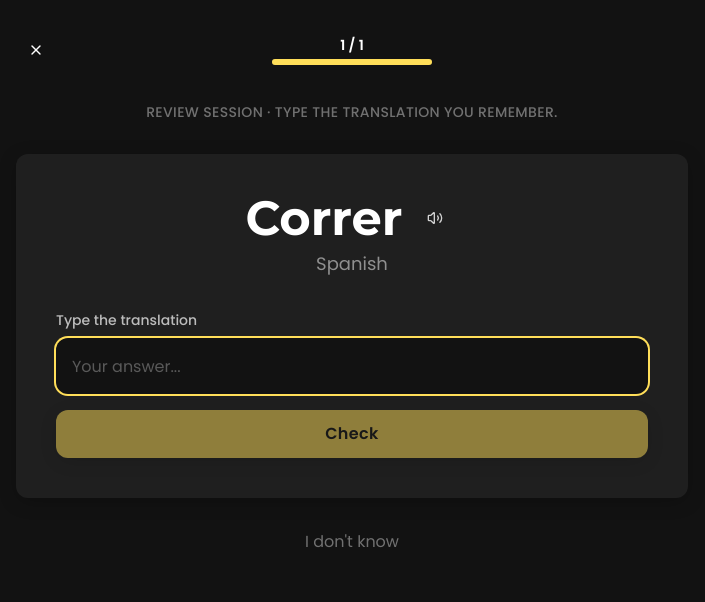
ReviewSessionPage offline (issue #218) › queues an answer that fails on a network error and still advances the session
Type "to run" into the field with placeholder "Your answer..." at x=352, y=366, box x1=56 y1=338 x2=648 y2=394
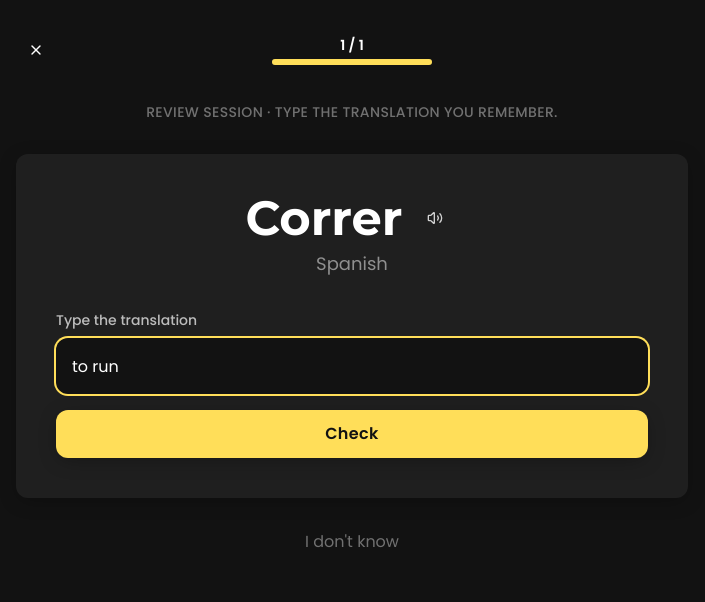
Click the button "Check" at x=352, y=434, box x1=56 y1=410 x2=648 y2=458
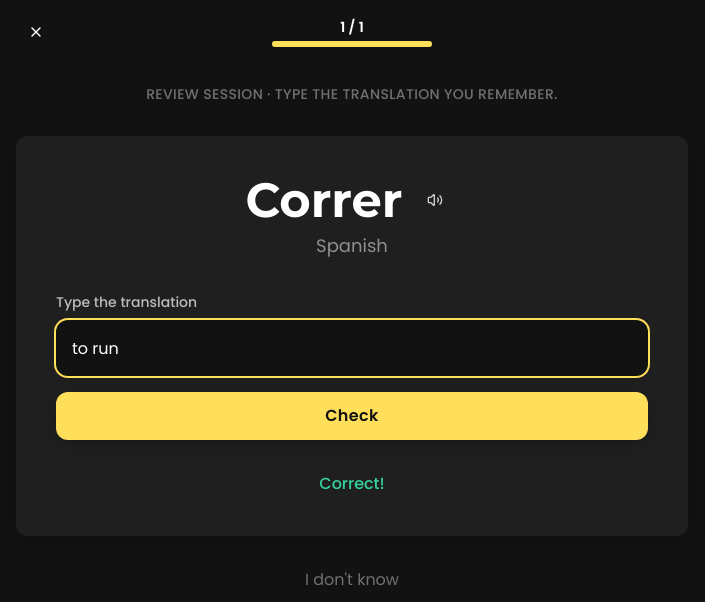
Result: the text "Correct!" is shown at x1=319 y1=472 x2=385 y2=495
